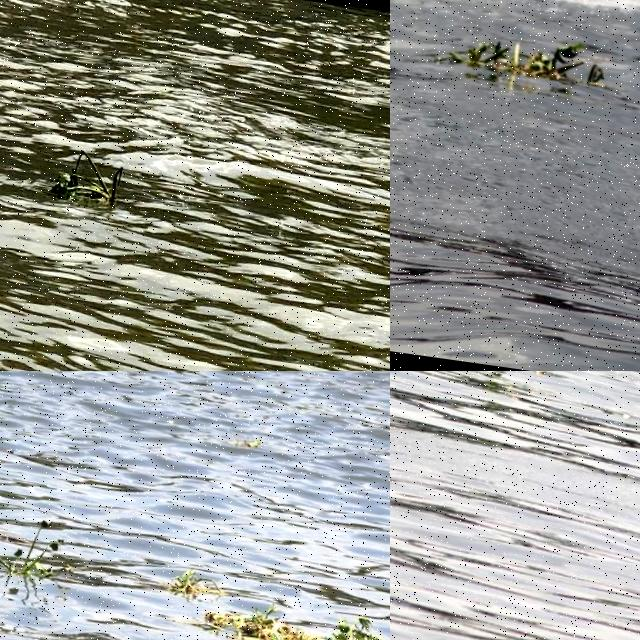water-hyacinth: (440, 20, 598, 98), (204, 601, 391, 640), (40, 145, 138, 218), (1, 512, 80, 596)
